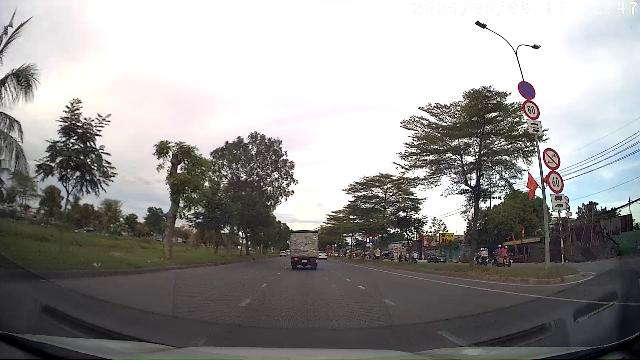127-toc-do-toi-da-60: (547, 171, 564, 193)
127-toc-do-toi-da-80: (522, 100, 540, 120)
130-cam-dung-va-do-xe: (518, 81, 536, 100)
